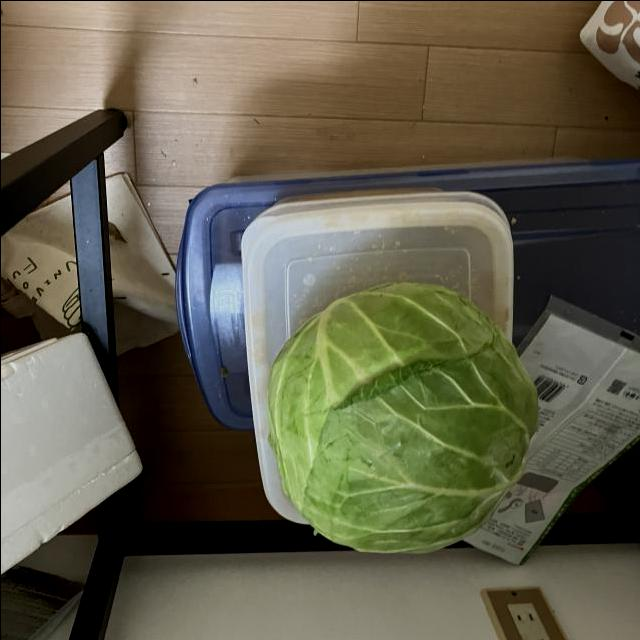cabbage: (264, 275, 544, 555)
